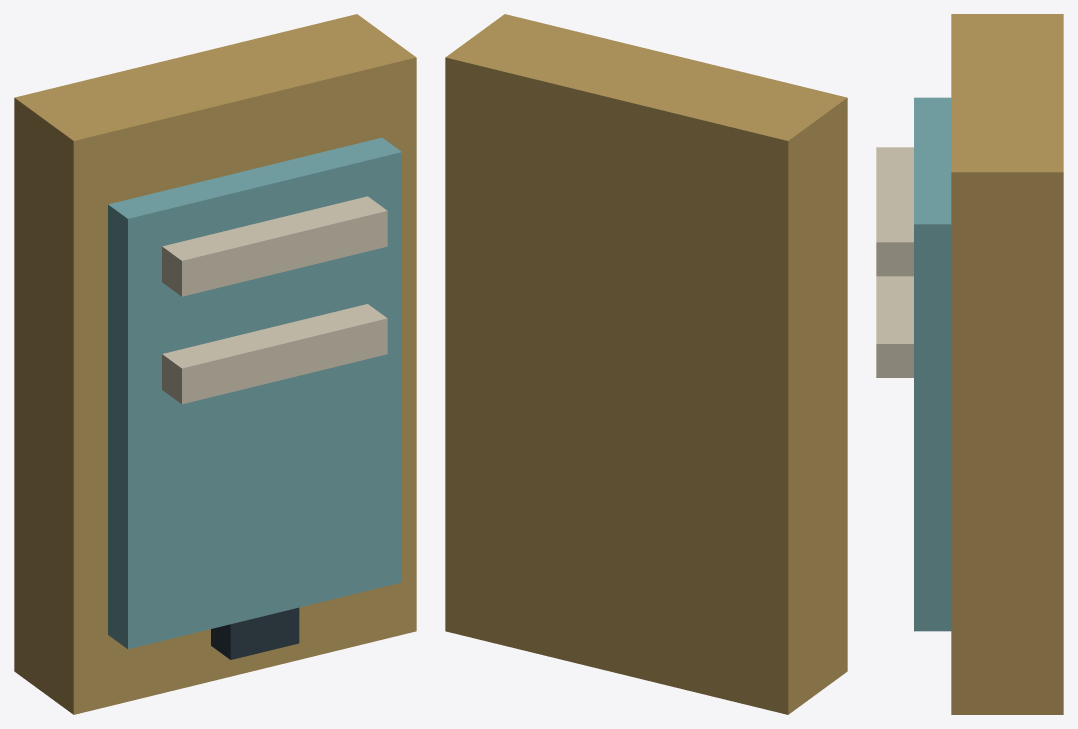
File: education-08.glb
3 views of the same model, side by side, from view 1: azimuth 30°, elevation 25°; view 2: azimuth 150°, elevation 25°; view 3: azimuth 270°, elevation 25° (orthographic). The views are drawn at different scales.
Visible parts, largest first — view 1: Learning tablet; view 2: Learning tablet; view 3: Learning tablet.
Part boxes in pixels (x1,y1,x2,y2): Learning tablet: (14,14,416,714); Learning tablet: (445,14,847,714); Learning tablet: (876,14,1063,714).
Bounding box in the file's own units: 0.8 × 1.28 × 0.4.
